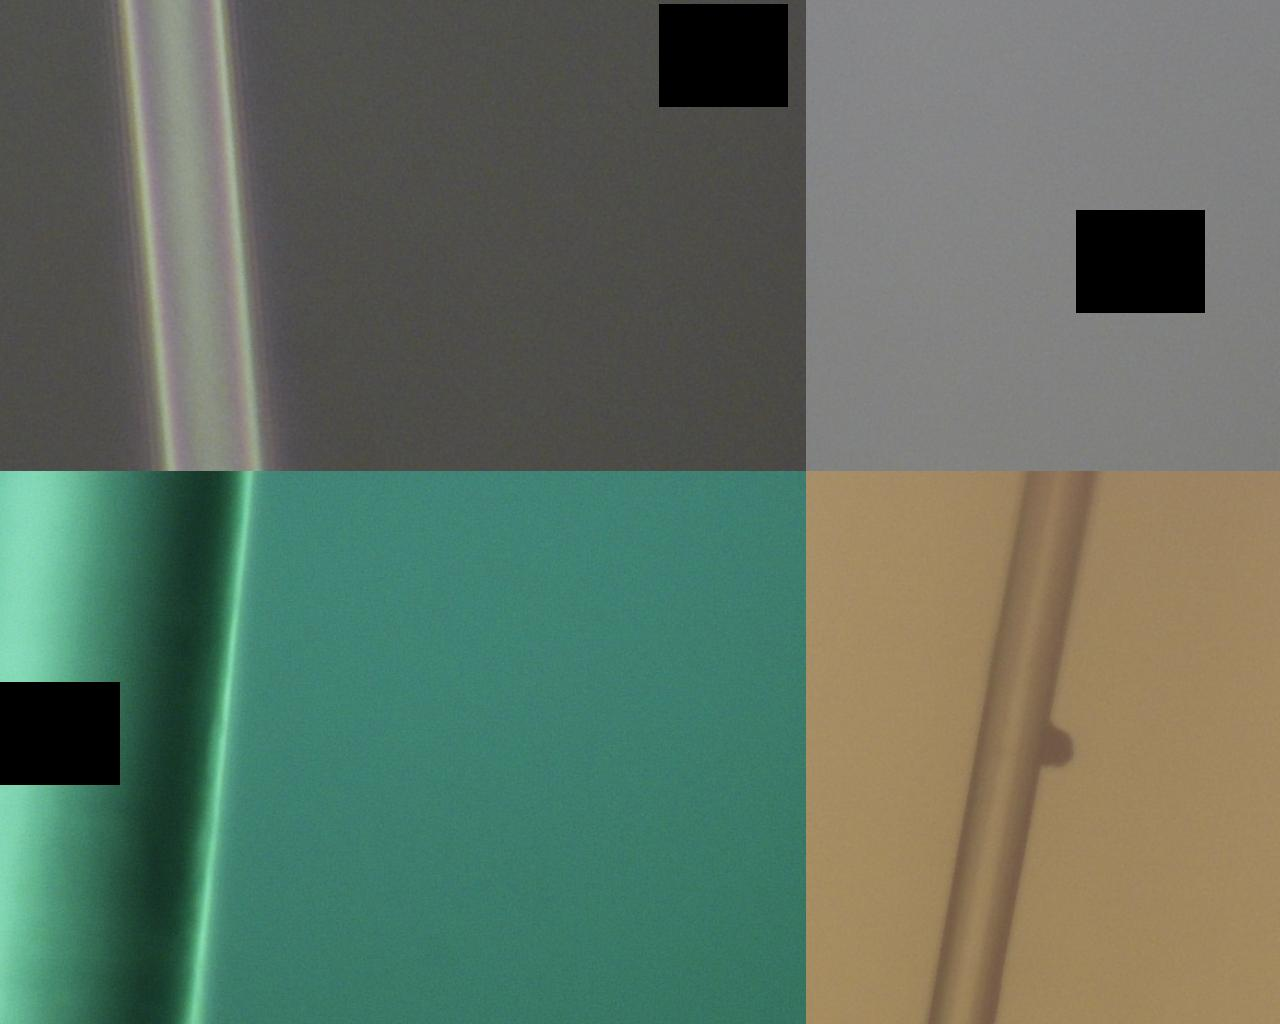fiber: (119, 0, 389, 1024)
